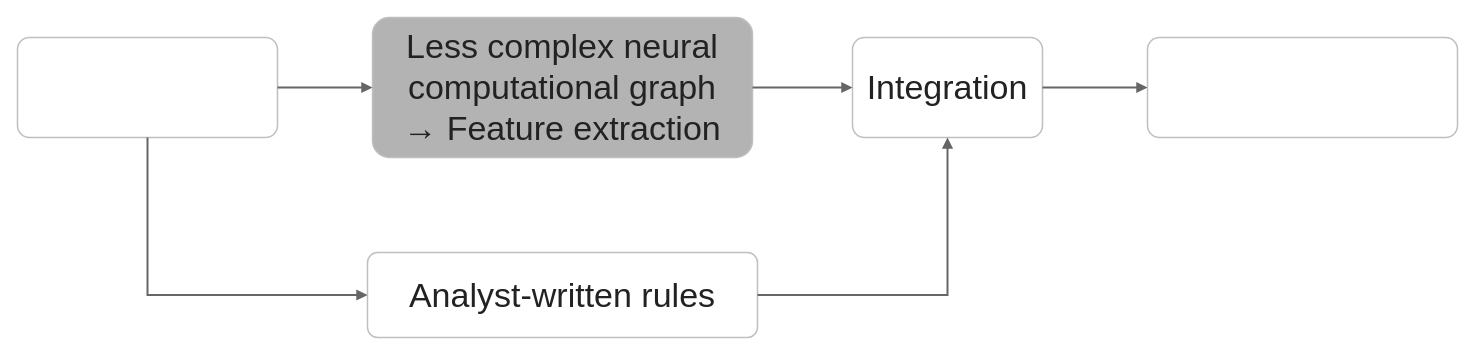
Some shapes in this 1476 by 356 pixel diagram are drawn without their labels. Here are the shapes that lost their labels. From the top down, the centre of each, then its label:
At (x=147, y=87): "Observations".
At (x=1302, y=87): "Class / anomaly score".
